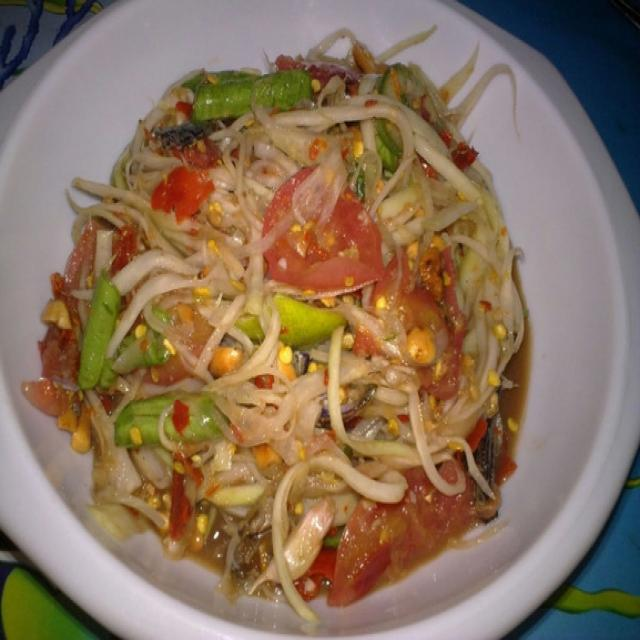蔬菜料理: (18, 13, 621, 627)
